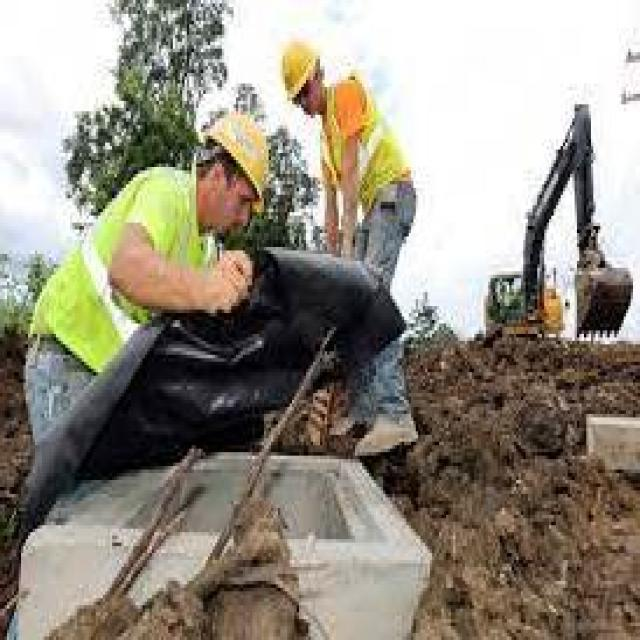Reflective-Jacket: (16, 160, 212, 379), (313, 66, 425, 223)
Safety-Helmet: (196, 98, 283, 212), (269, 28, 327, 108)
